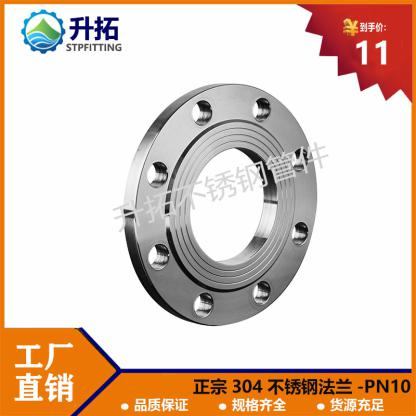FOD: (112, 82, 324, 331)
